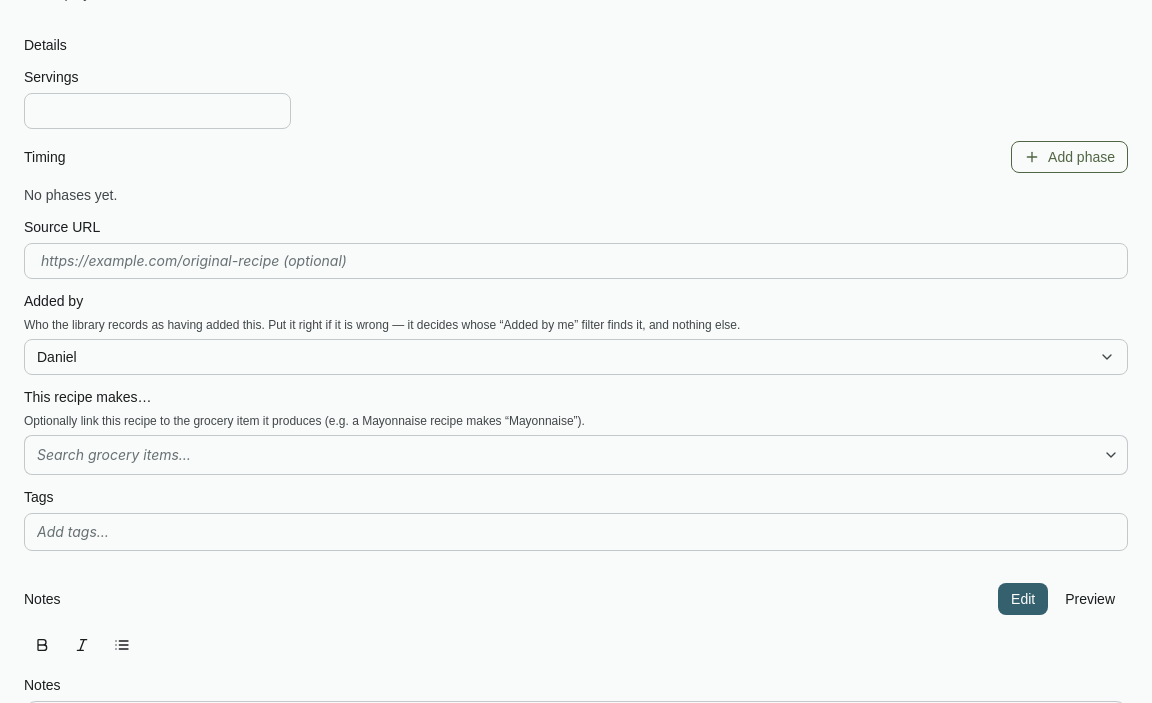
Test case: RecipeEditPage — "Added by" › shows the recorded name when editing, and offers the roster in display order
(page scrolled)
Check: the element with test id "recipe-added-by" is shown, box top-left (24, 291), bottom-right (1128, 375)
Click the button with test id "recipe-added-by-select" at [57, 357], box top-left (24, 339), bottom-right (1128, 375)
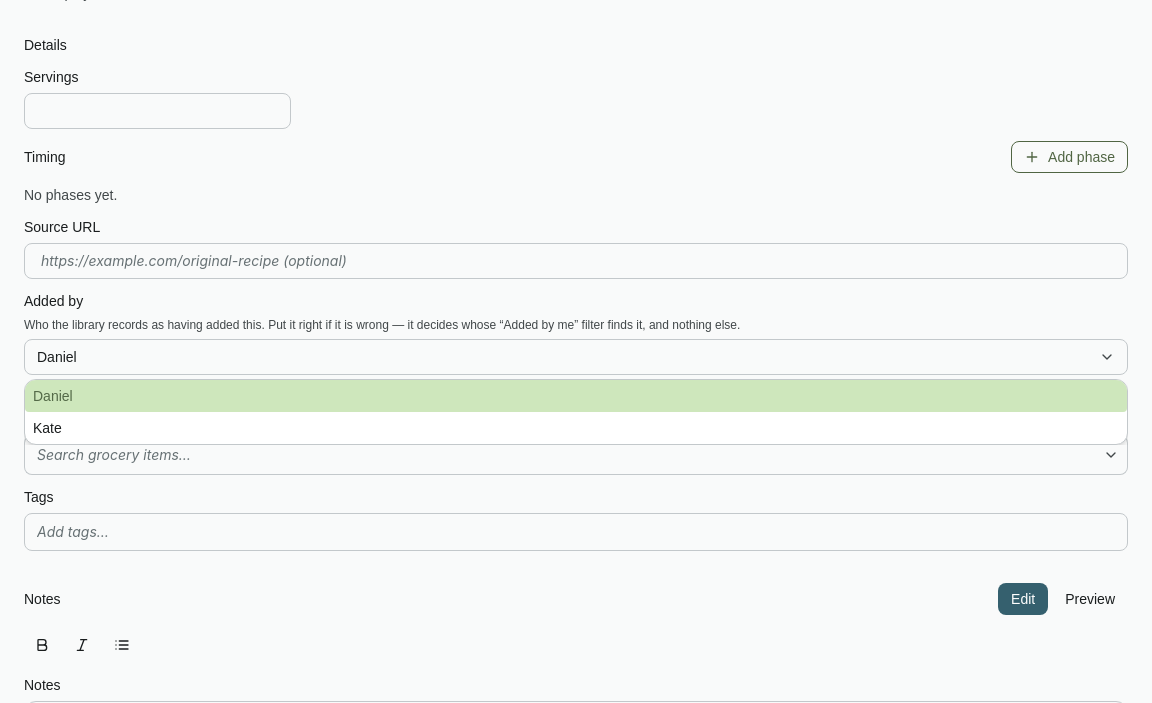
Check: the list is shown, box top-left (24, 379), bottom-right (1128, 445)
Check: the options read "Daniel", "Kate", in this order, box top-left (25, 380), bottom-right (1127, 412); top-left (33, 420), bottom-right (62, 436)
